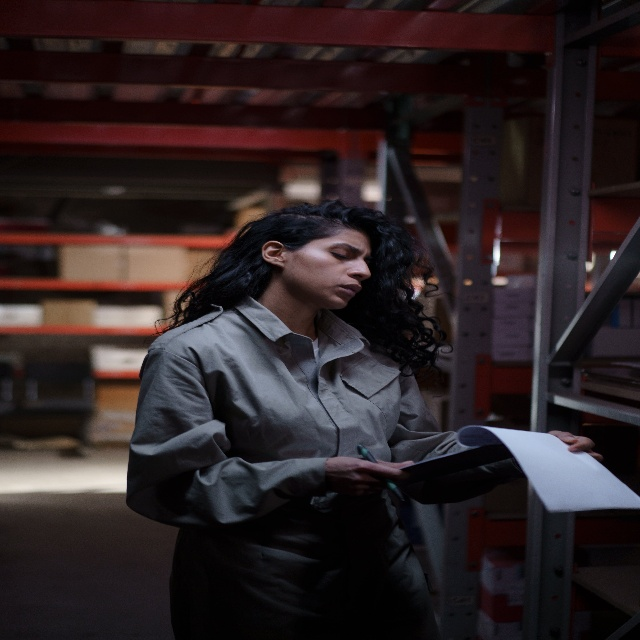Sin_guantes: (325, 457, 414, 497), (548, 429, 603, 463)
